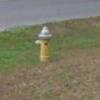a fire hydrant: (32, 24, 56, 60)
